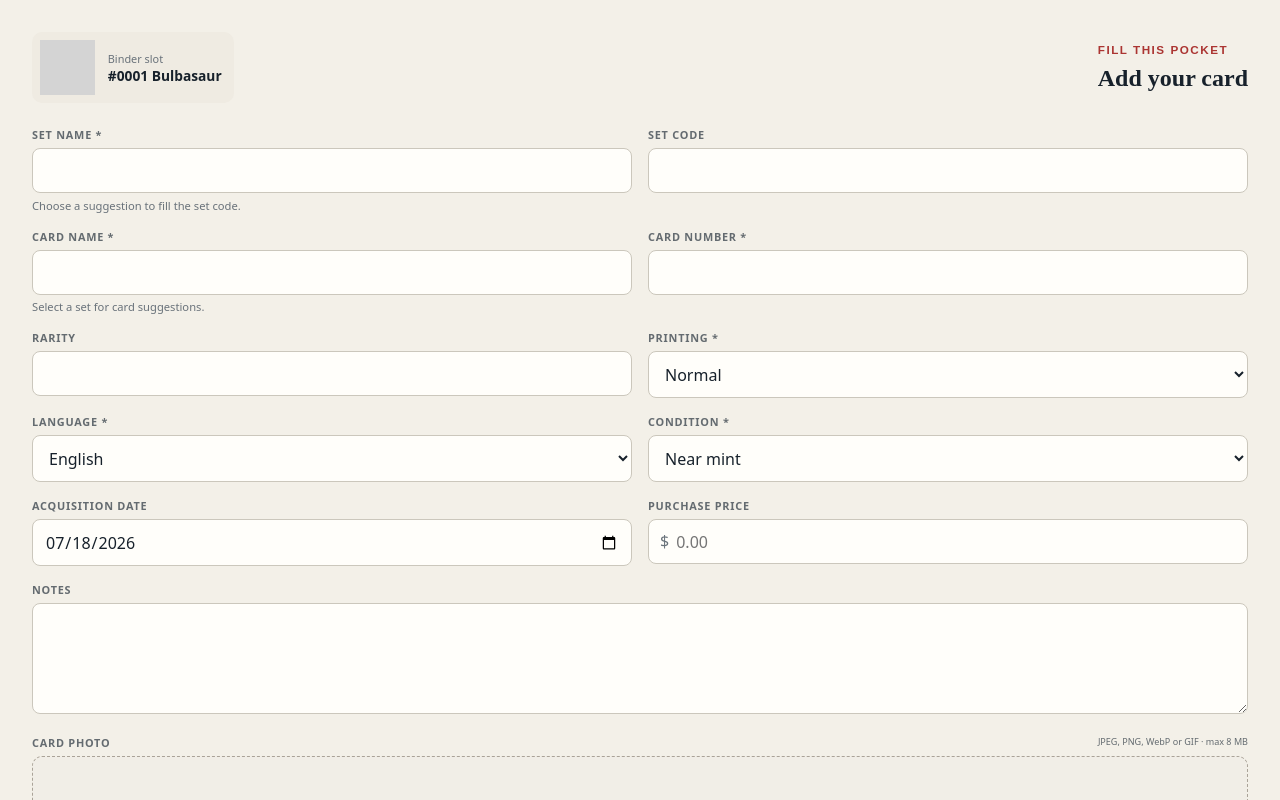
Add Card catalog assistance › preserves loaded cards when a recognized set code suggestion is selected
The image size is (1280, 800).
Expected: the text "Choose a suggestion to fill the set code." is shown, [32,198,241,213]
Step 1. Type "mew" into the dropdown labelled "Set name *" → {"x": 332, "y": 170}, box [32,148,632,193]
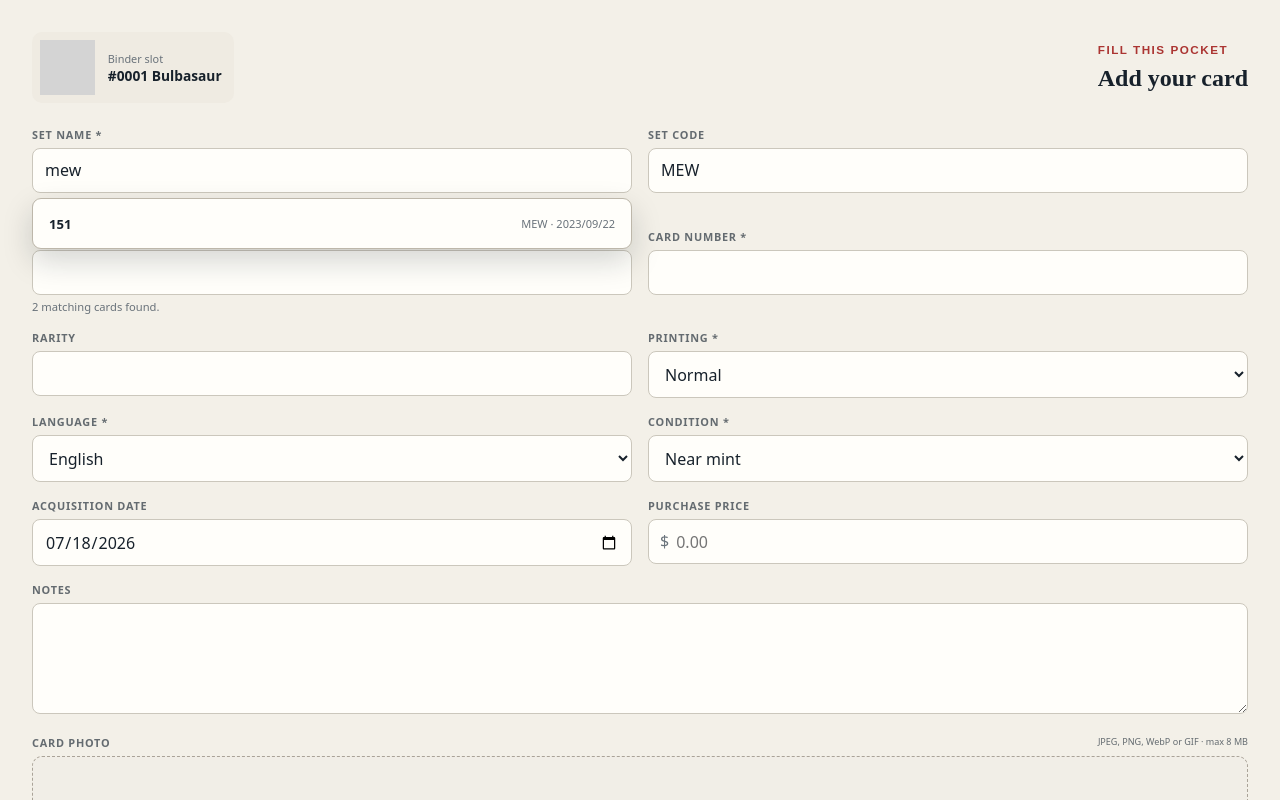
Expected: the field labelled "Set code" holds "MEW", [648,148,1248,193]
Expected: the text "2 matching cards found." is shown, [32,299,160,314]
Step 2. Click the option "151 MEW · 2023/09/22" → {"x": 568, "y": 224}, box [49,215,615,233]
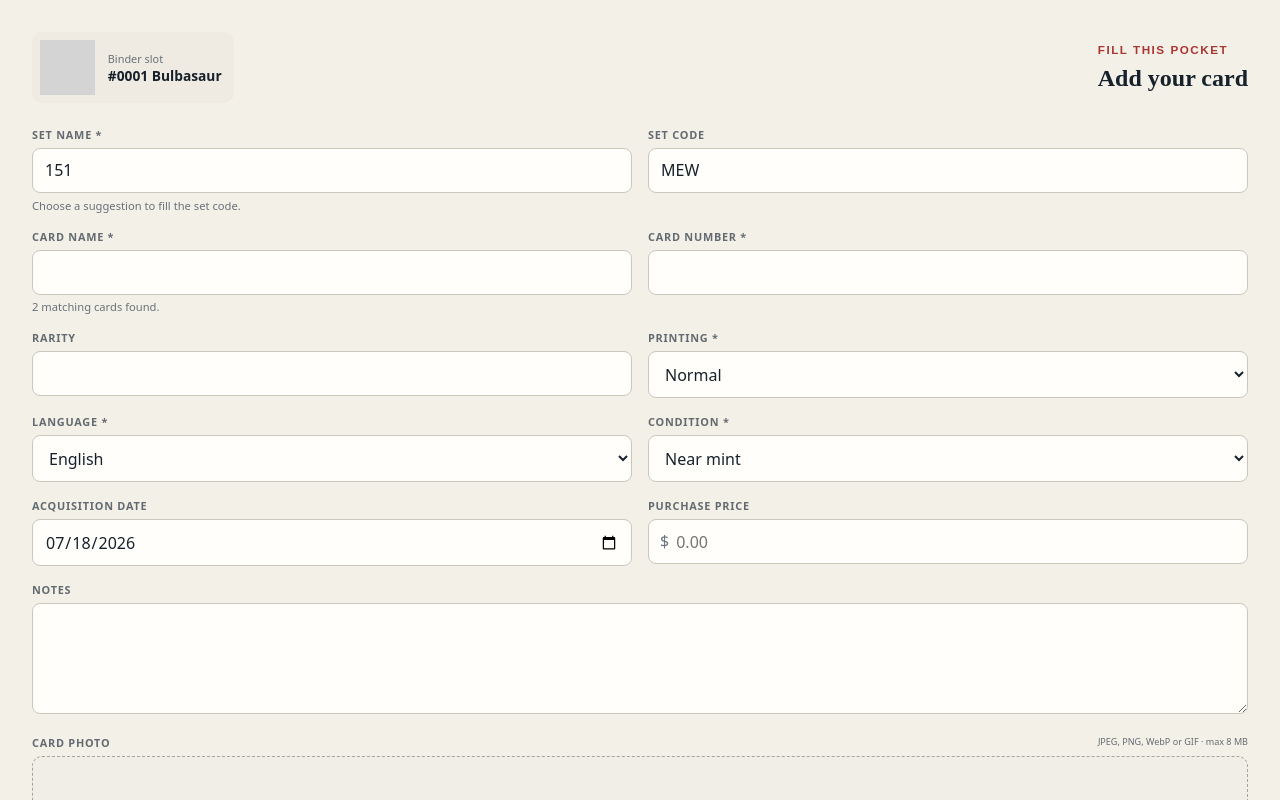
Expected: the text "2 matching cards found." is shown, [32,299,160,314]
Step 3. Focus the dropdown labelled "Card name *" → {"x": 332, "y": 272}, box [32,250,632,294]
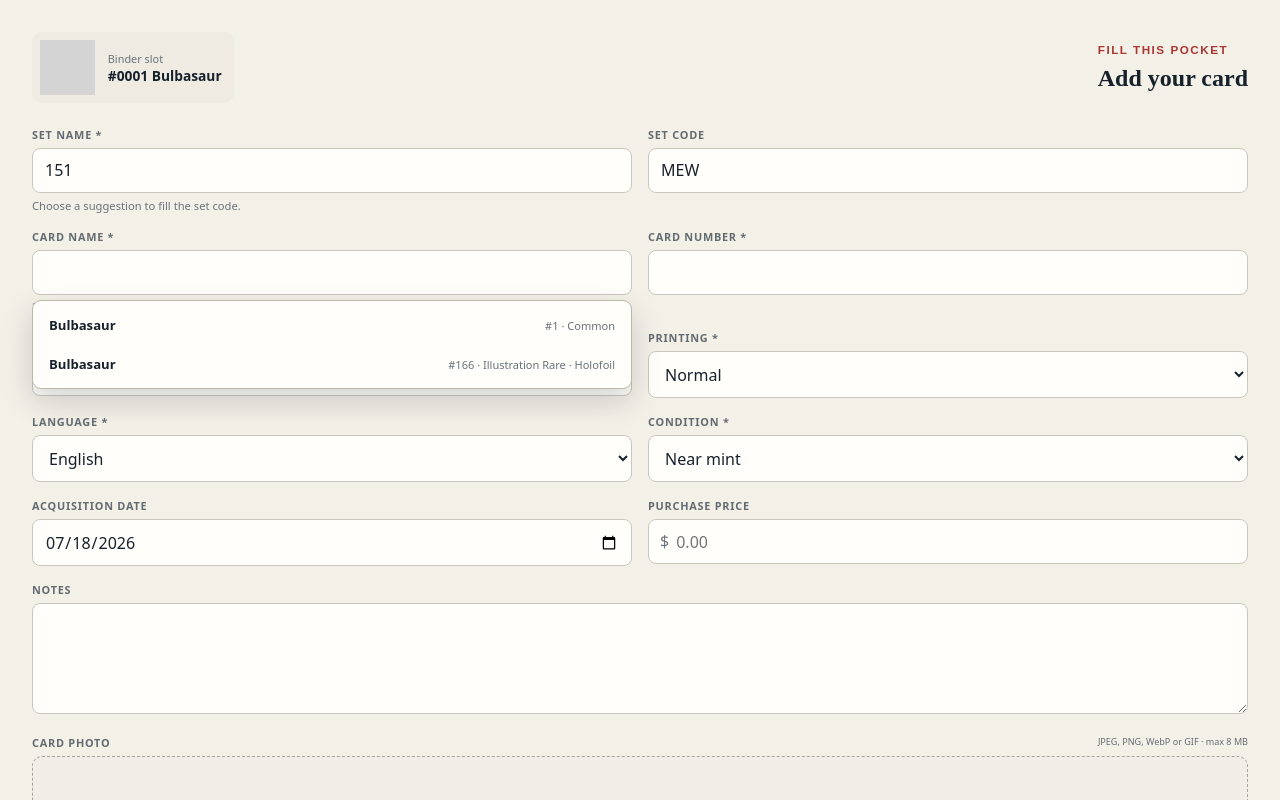
Expected: the number of options "Bulbasaur #1 · Common" is 2, [49,316,615,334]; [49,355,615,373]
